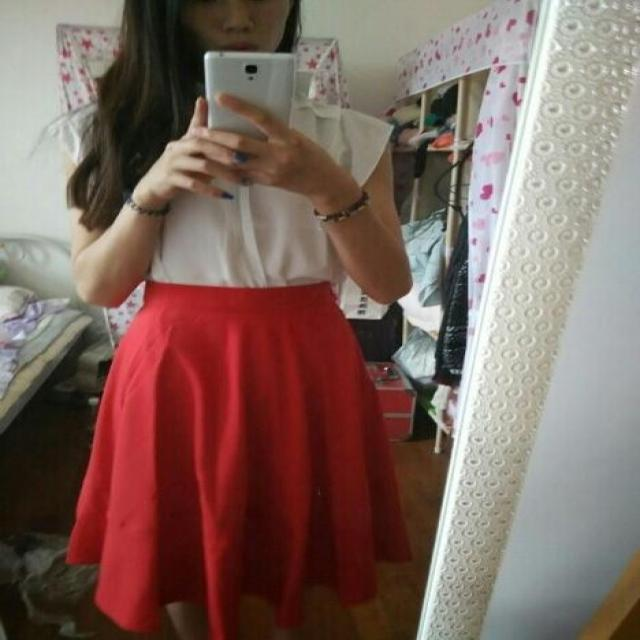skirt: (66, 281, 410, 634)
vest: (46, 77, 397, 284)
